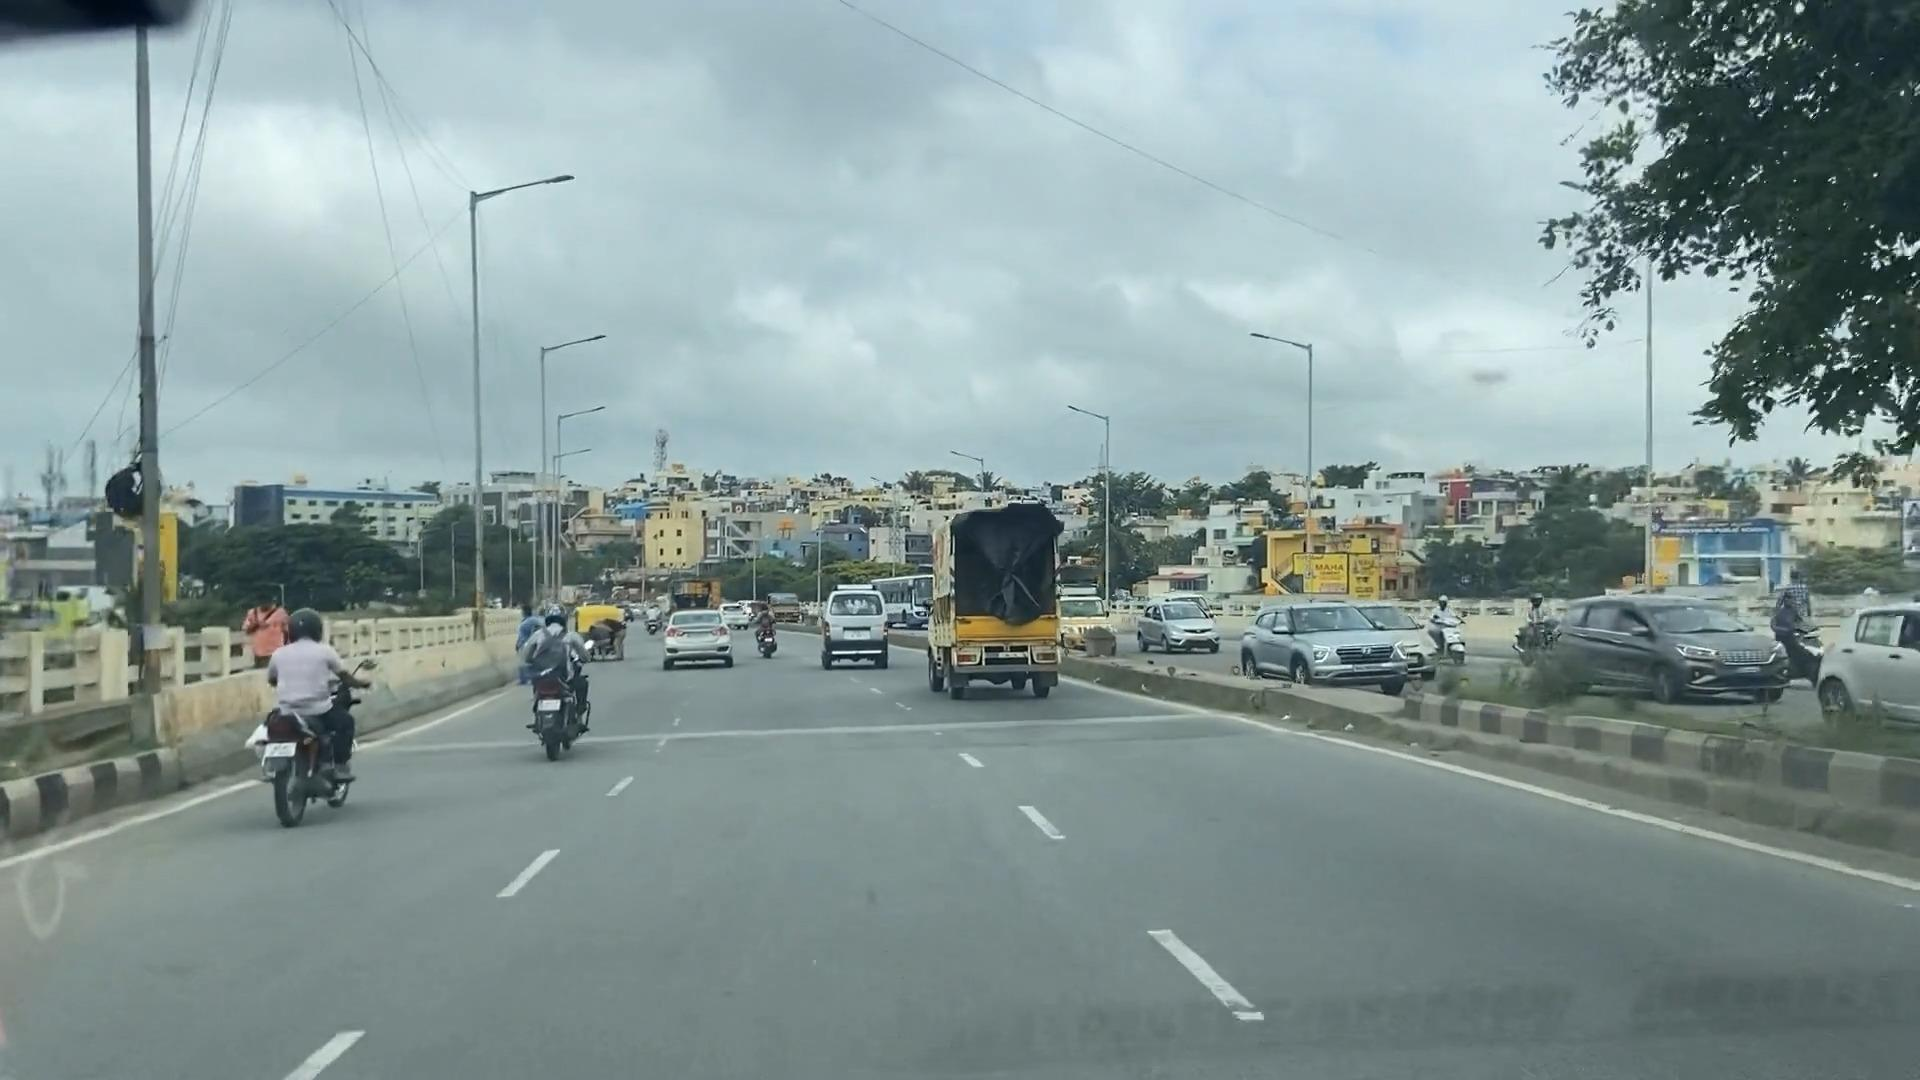HMV: (933, 470, 1055, 714)
LMV: (275, 630, 361, 824), (510, 620, 597, 760)
SpeedBump: (635, 711, 1223, 746), (358, 708, 509, 774)
